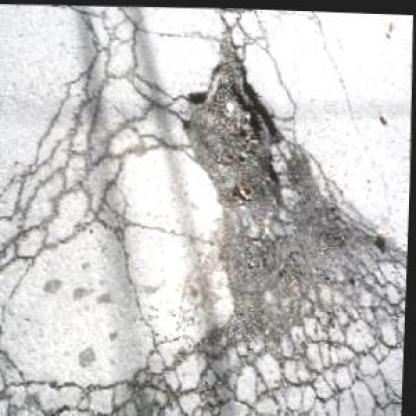pothole: (178, 22, 292, 211)
